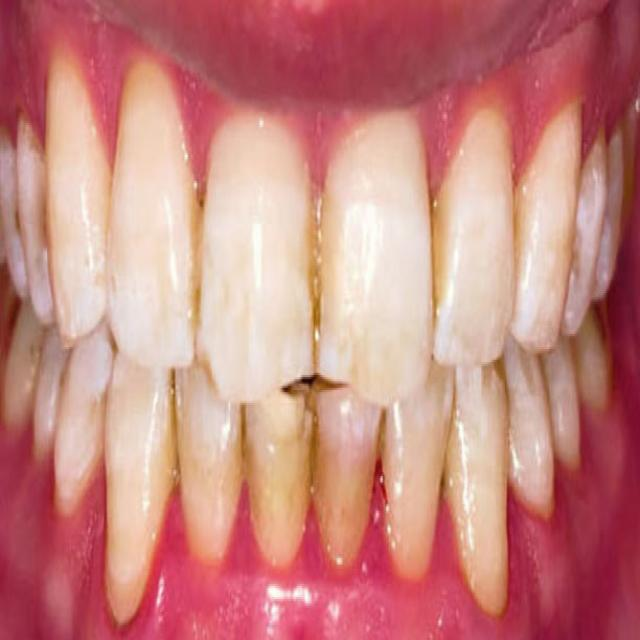caries: (256, 360, 314, 451)
